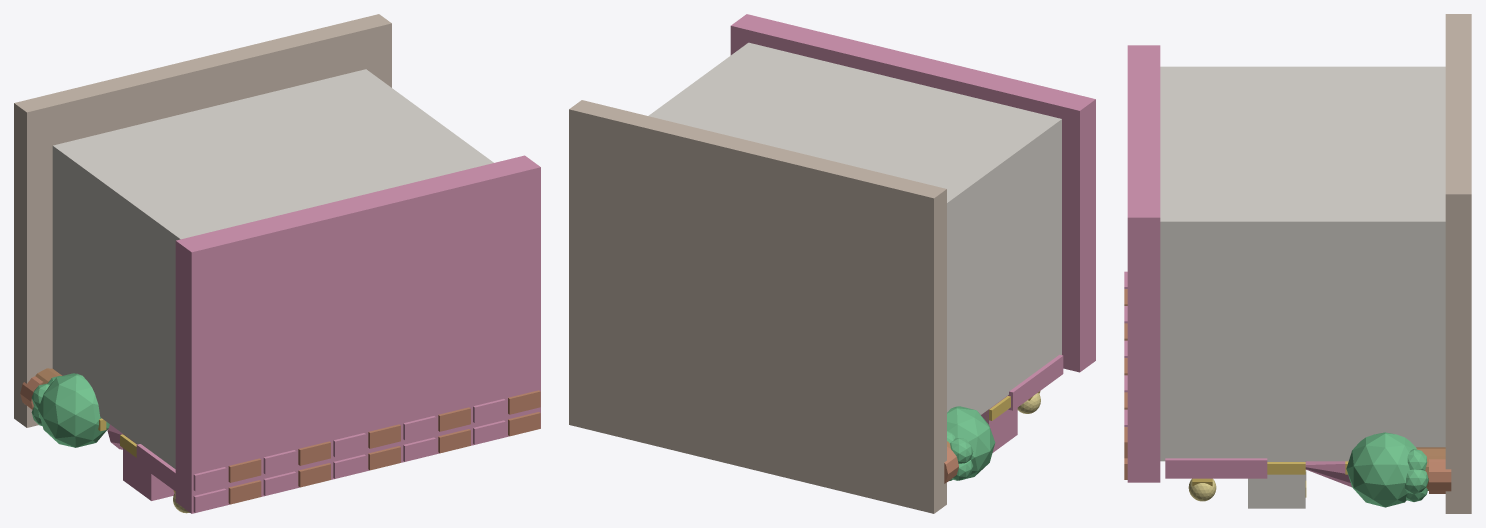
Rendered from fashion.glb.
3 renders of one model, left to right at view 1: azimuth 30°, elevation 25°; view 2: azimuth 150°, elevation 25°; view 3: azimuth 270°, elevation 25°, orthographic.
Parts seen in each view (by area): view 1: roof_2, walls_1, plinth_0, plant_20, awning_5, signboard_3, detail_roof_tile_34, detail_roof_tile_46, detail_roof_tile_35, detail_roof_tile_44, detail_roof_tile_45, detail_roof_tile_36 (+14 smaller); view 2: plinth_0, walls_1, roof_2, plant_20, signboard_3, awning_5; view 3: walls_1, roof_2, plinth_0, plant_22, signboard_3, awning_12, detail_flower_pot_27, detail_dress_58, detail_window_trim_5, detail_foliage_28, detail_sconce_glow_9.
Boxes of the visible parts, x1,y1,x2,y2 form: roof_2: (175,155,540,513); walls_1: (52,69,493,468); plinth_0: (14,14,391,427); plant_20: (38,373,109,447); awning_5: (123,434,174,500); signboard_3: (136,444,175,491); detail_roof_tile_34: (193,488,226,512); detail_roof_tile_46: (263,450,296,474); detail_roof_tile_35: (228,480,261,504); detail_roof_tile_44: (193,467,226,491); detail_roof_tile_45: (228,458,261,482); detail_roof_tile_36: (263,471,296,495); plinth_0: (569,100,946,513); walls_1: (648,42,1061,414); roof_2: (730,14,1095,372); plant_20: (947,406,995,480); signboard_3: (1008,354,1063,410); awning_5: (981,395,1017,452); walls_1: (1160,66,1445,461); roof_2: (1127,45,1160,482); plinth_0: (1445,14,1471,513); plant_22: (1346,432,1416,507); signboard_3: (1165,458,1267,478); awning_12: (1248,461,1305,508); detail_flower_pot_27: (1429,459,1451,493); detail_dress_58: (1305,461,1351,487); detail_window_trim_5: (1267,462,1305,474); detail_foliage_28: (1405,469,1428,494); detail_sconce_glow_9: (1188,479,1216,501).
Size of the model in its own units: 4.94 by 3.93 by 3.74.
